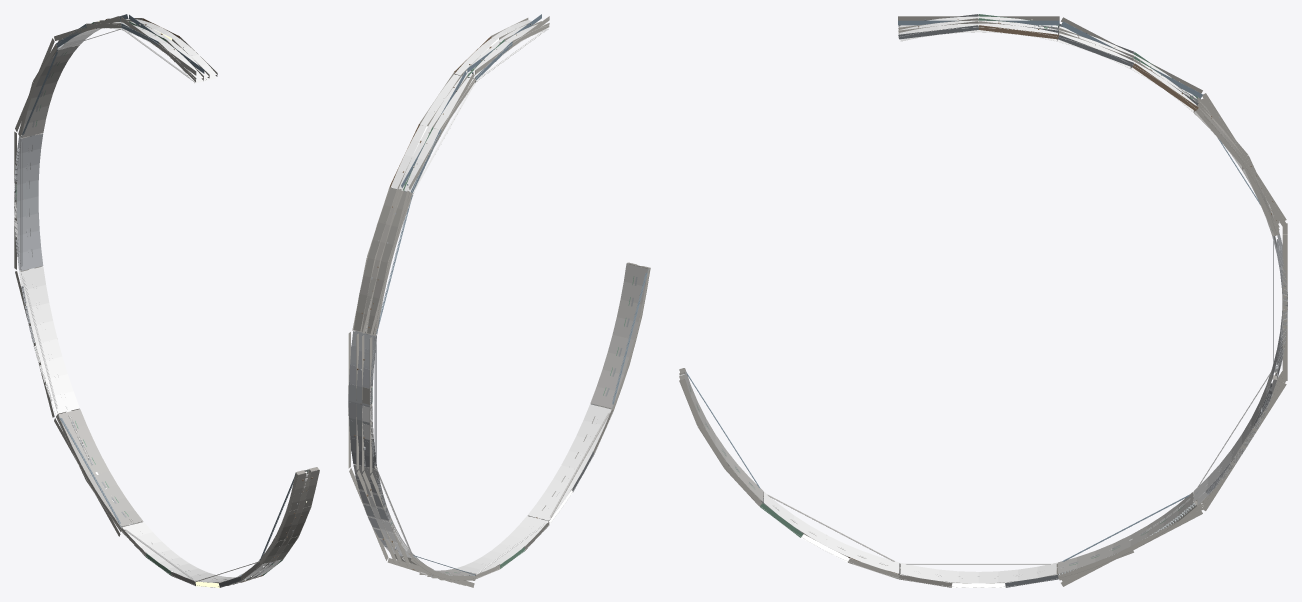
Rendered from xuanshu_interior_C43.glb.
The picture shows the model from 3 angles, left to right: view 1: azimuth 30°, elevation 25°; view 2: azimuth 150°, elevation 25°; view 3: azimuth 270°, elevation 25°; orthographic projection. The views are drawn at different scales.
Parts seen in each view (by area): view 1: UNIT-HIB-007, UNIT-MNT-006, UNIT-HYG-004, UNIT-MNT-007, UNIT-TEX-001, UNIT-MKT-002; view 2: UNIT-MNT-006, UNIT-HYG-004, UNIT-HIB-007, UNIT-MKT-002, UNIT-MNT-007, UNIT-TEX-001, UNIT-STO-003; view 3: UNIT-MNT-006, UNIT-HIB-007, UNIT-MNT-007, UNIT-HYG-004, UNIT-MKT-002, UNIT-TEX-001.
Part boxes in pixels (bbox=[...]): UNIT-HIB-007: bbox=[14, 134, 142, 529]; UNIT-MNT-006: bbox=[121, 467, 319, 587]; UNIT-HYG-004: bbox=[19, 18, 216, 137]; UNIT-MNT-007: bbox=[18, 18, 217, 138]; UNIT-TEX-001: bbox=[15, 14, 204, 131]; UNIT-MKT-002: bbox=[14, 131, 142, 536]; UNIT-MNT-006: bbox=[456, 262, 650, 579]; UNIT-HYG-004: bbox=[353, 20, 548, 334]; UNIT-HIB-007: bbox=[348, 331, 475, 580]; UNIT-MKT-002: bbox=[348, 332, 475, 587]; UNIT-MNT-007: bbox=[352, 18, 549, 335]; UNIT-TEX-001: bbox=[362, 14, 549, 335]; UNIT-STO-003: bbox=[358, 336, 475, 580]; UNIT-MNT-006: bbox=[679, 368, 1058, 587]; UNIT-HIB-007: bbox=[1058, 230, 1287, 577]; UNIT-MNT-007: bbox=[898, 14, 1279, 236]; UNIT-HYG-004: bbox=[899, 16, 1275, 235]; UNIT-MKT-002: bbox=[1057, 223, 1287, 586]; UNIT-TEX-001: bbox=[898, 16, 1286, 226].
Bounding box in the file's own units: 17.6 × 396 × 389.
